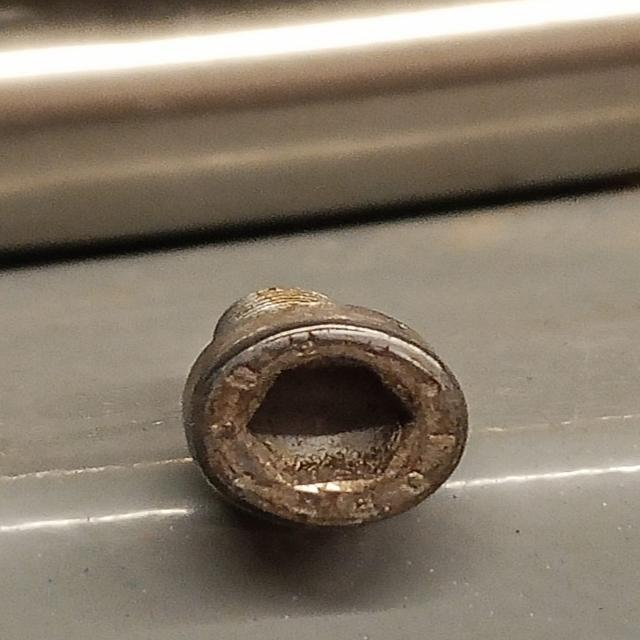allen: (182, 308, 468, 526)
